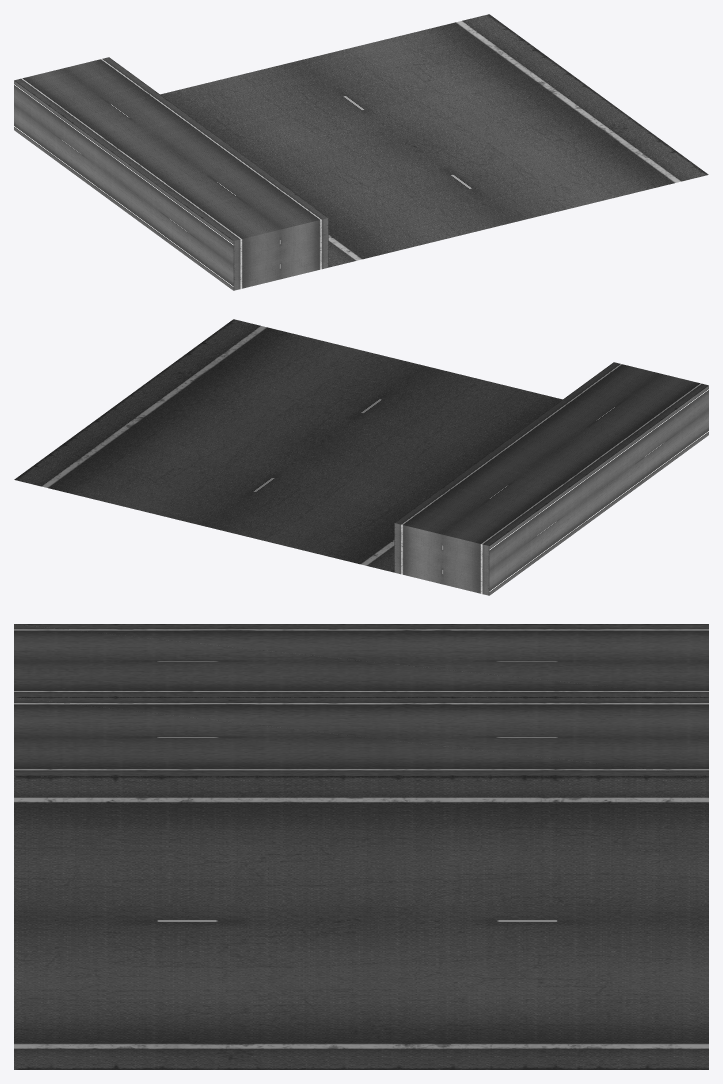
File: segmentoReta.obj
3 renders of one model, top to bottom at view 1: azimuth 30°, elevation 25°; view 2: azimuth 150°, elevation 25°; view 3: azimuth 270°, elevation 25°, orthographic. The views are drawn at different scales.
Visible parts, largest first — view 1: cube; view 2: cube; view 3: cube.
Part boxes in pixels (x1=…): cube: x1=14, y1=14, x2=708, y2=290; cube: x1=14, y1=319, x2=708, y2=595; cube: x1=14, y1=624, x2=708, y2=1069.
Size of the model in its own units: 10 by 1 by 8.
1 material, 1 textured.
